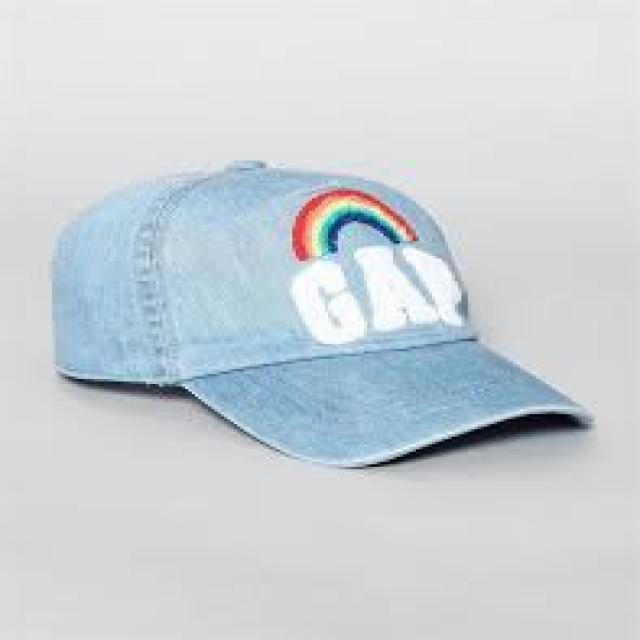cap: (36, 142, 614, 486)
